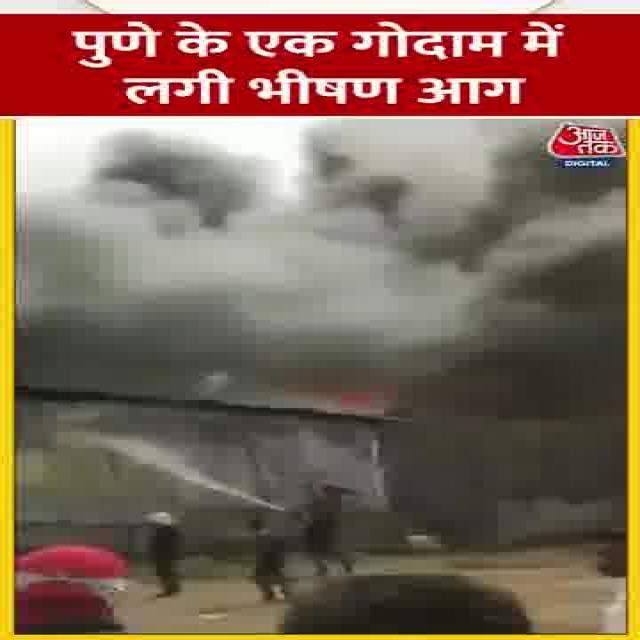Fire: (64, 0, 608, 114)
Smoke: (85, 125, 632, 425)
